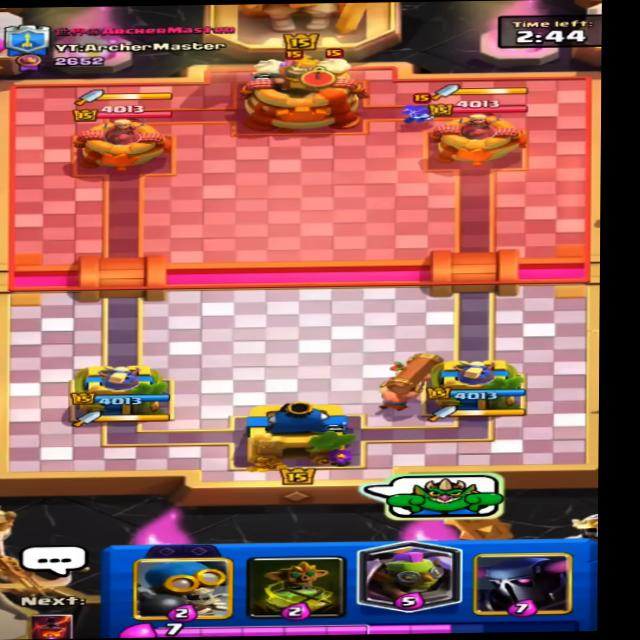electro-spirit: (399, 100, 444, 123)
